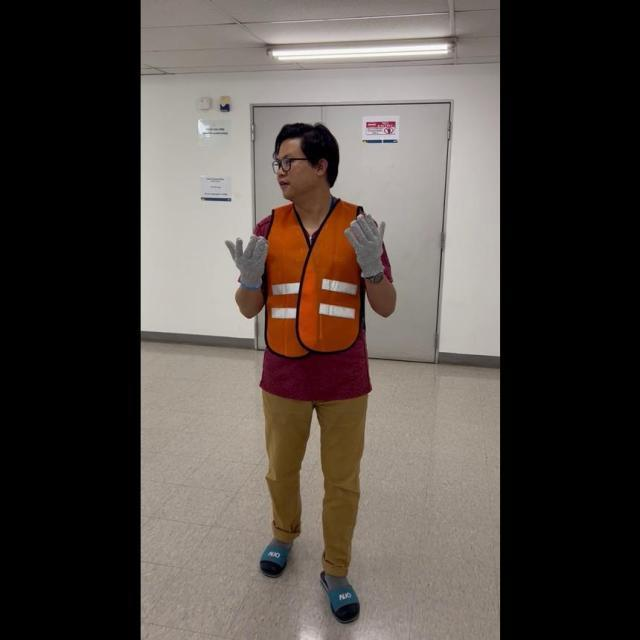gloved_hand: (344, 208, 388, 283), (225, 227, 271, 289)
